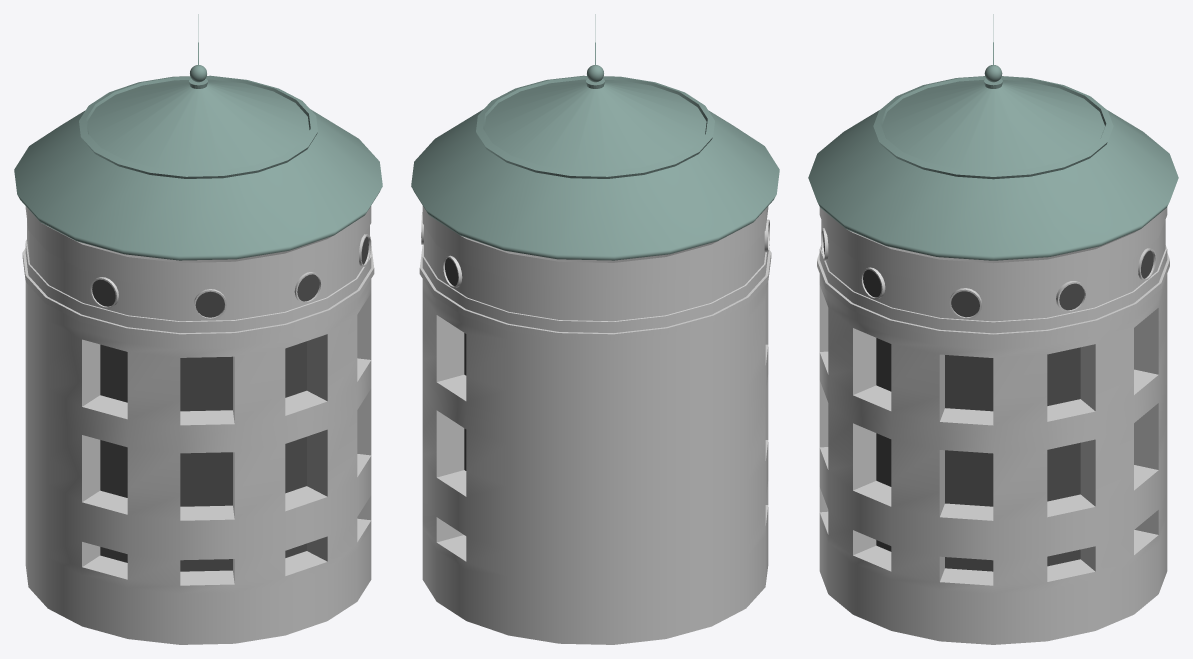
File: Birger jarls torn01.fbx
3 renders of one model, left to right at view 1: azimuth 30°, elevation 25°; view 2: azimuth 150°, elevation 25°; view 3: azimuth 270°, elevation 25°, orthographic.
Parts seen in each view (by area): view 1: pCylinder9; view 2: pCylinder9; view 3: pCylinder9.
Part boxes in pixels (left/top/right/bottom): pCylinder9: left=14, top=14, right=382, bottom=644; pCylinder9: left=411, top=14, right=779, bottom=644; pCylinder9: left=808, top=14, right=1178, bottom=644.
Bounding box in the file's own units: 119 × 198 × 119.
